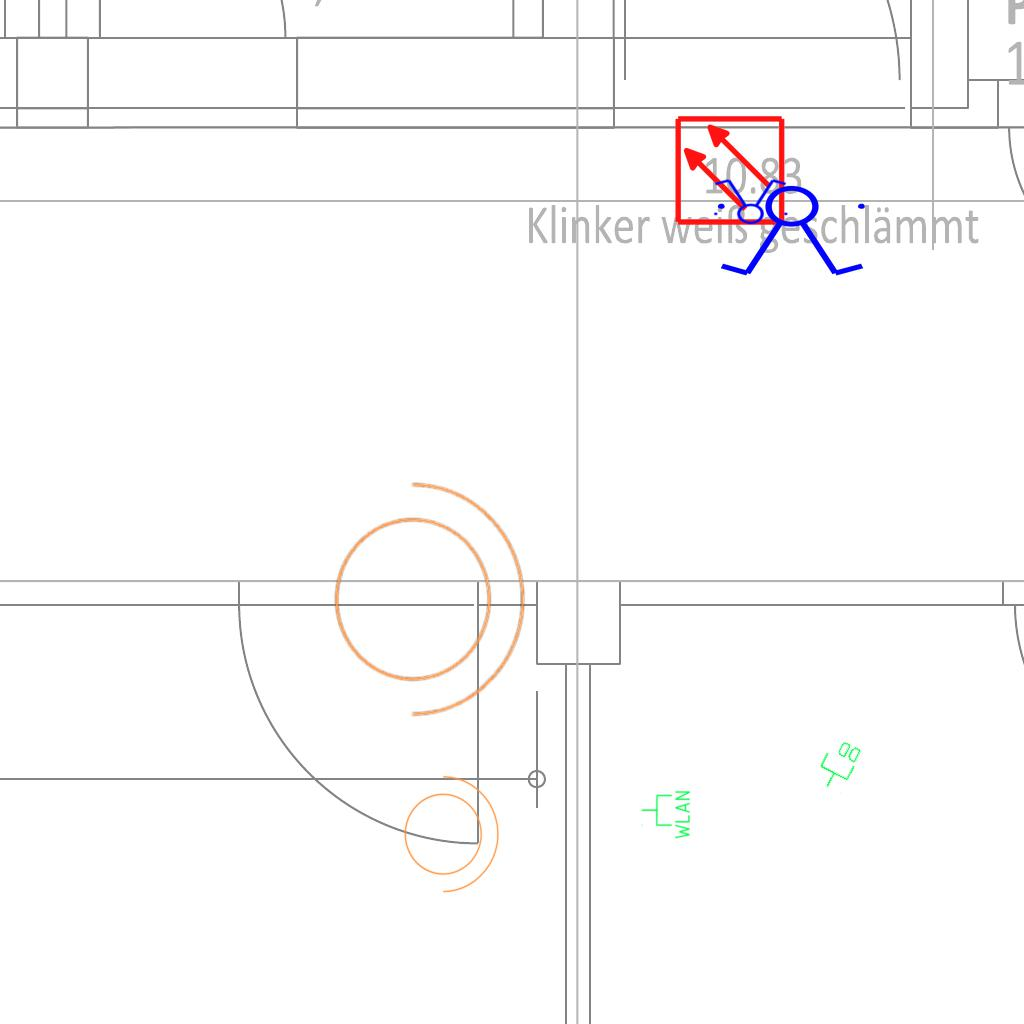Datenanschluss_zweifach: (811, 734, 866, 796)
RMO_Rauchmelder_optischer: (673, 114, 786, 227)
Scheinwerfer_fuer_Alarmbeleuchtung: (310, 461, 535, 725), (392, 765, 504, 897)
Serienschalter: (709, 184, 877, 280), (708, 177, 792, 225)
WLAN: (640, 789, 692, 841)
